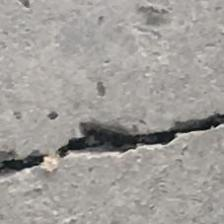Crack: (0, 96, 224, 198)
